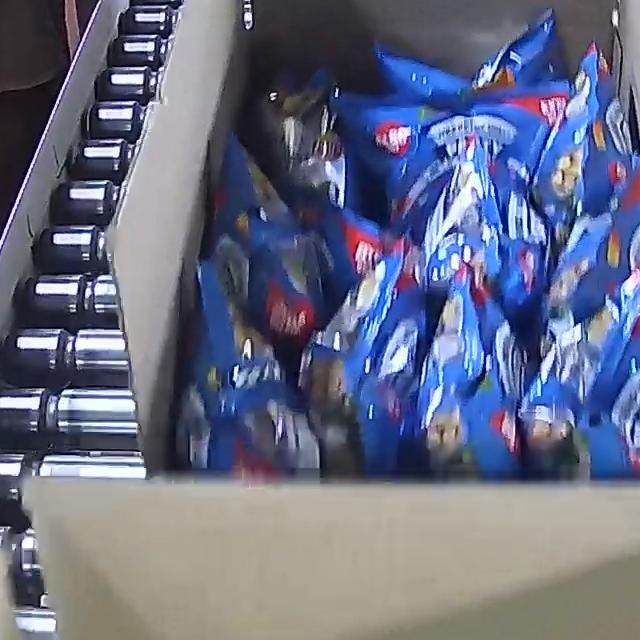paprika: (172, 3, 640, 484)
